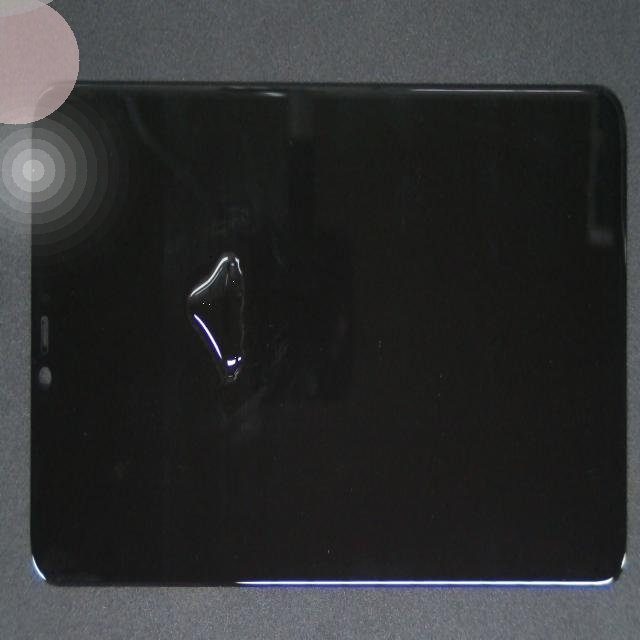oil: (63, 107, 307, 506)
